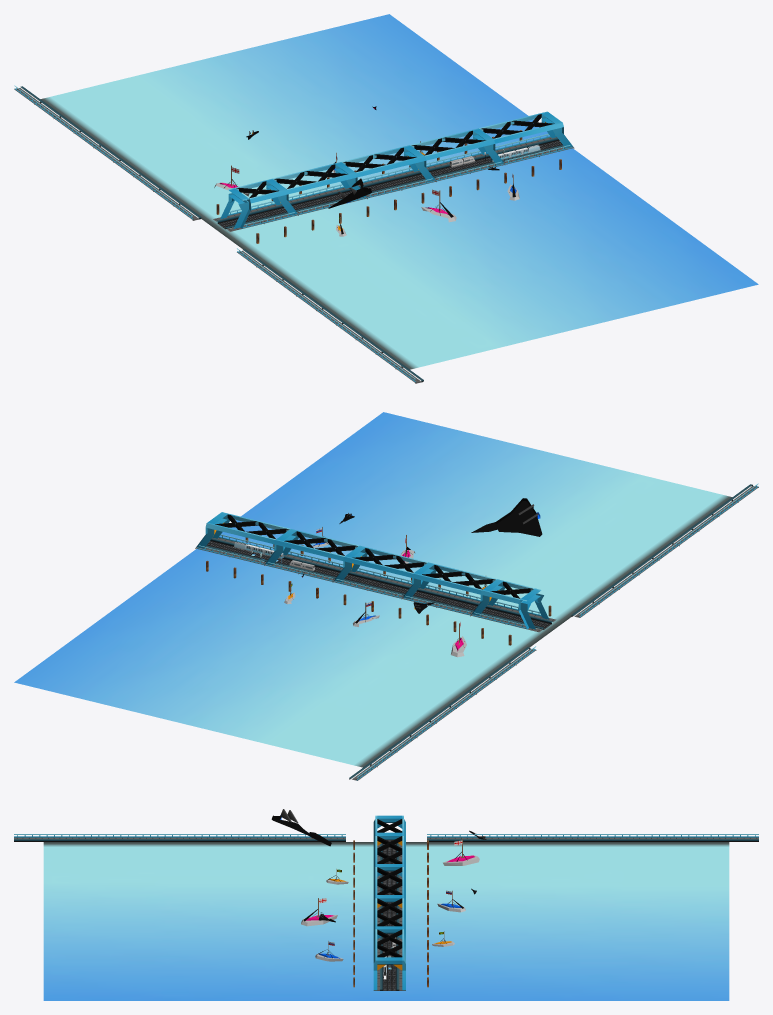
File: subwaysurferstest34.glb
The picture shows the model from 3 angles, top to bottom: view 1: azimuth 30°, elevation 25°; view 2: azimuth 150°, elevation 25°; view 3: azimuth 270°, elevation 25°; orthographic projection. The views are drawn at different scales.
Parts seen in each view (by area): view 1: Water, Overpass.004, Overpass.002, Overpass.001, Overpass, Overpass.003; view 2: Water, Overpass.004, Overpass, Overpass.001, Overpass.002, Overpass.003, Plane1.001; view 3: Water, Overpass, Overpass.001, Overpass.002, Overpass.003, Overpass.004, Plane1.001, boat1.003.
Part boxes in pixels (x1,y1,x2,y2): Water: (40,14,758,369); Overpass.004: (220,178,298,228); Overpass.002: (341,145,435,181); Overpass.001: (410,128,504,164); Overpass: (479,111,573,147); Overpass.003: (273,162,367,198); Water: (14,412,732,767); Overpass.004: (471,579,549,629); Overpass: (196,512,290,548); Overpass.001: (264,529,359,565); Overpass.002: (333,545,427,581); Overpass.003: (402,562,496,598); Plane1.001: (471,498,542,536); Water: (43,842,729,1000); Overpass: (373,929,405,990); Overpass.001: (373,898,405,939); Overpass.002: (373,867,405,907); Overpass.003: (373,836,405,876); Overpass.004: (373,815,405,845); Plane1.001: (271,809,331,846); boat1.003: (443,839,479,865).
Bounding box in the file's own units: 418 × 87.32 × 808.
Materials: 4 (4 with a texture image).
